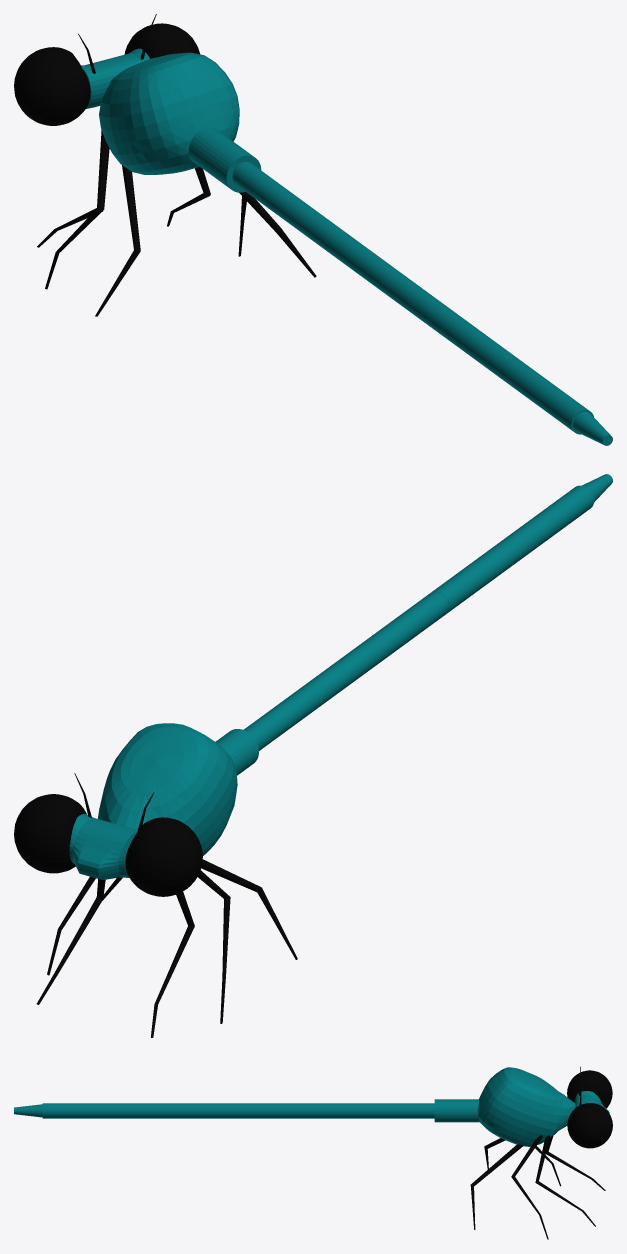
File: damselfly.obj
3 renders of one model, top to bottom at view 1: azimuth 30°, elevation 25°; view 2: azimuth 150°, elevation 25°; view 3: azimuth 270°, elevation 25°, orthographic. The views are drawn at different scales.
Size of the model in its own units: 0.9191 by 1.03 by 3.94.
